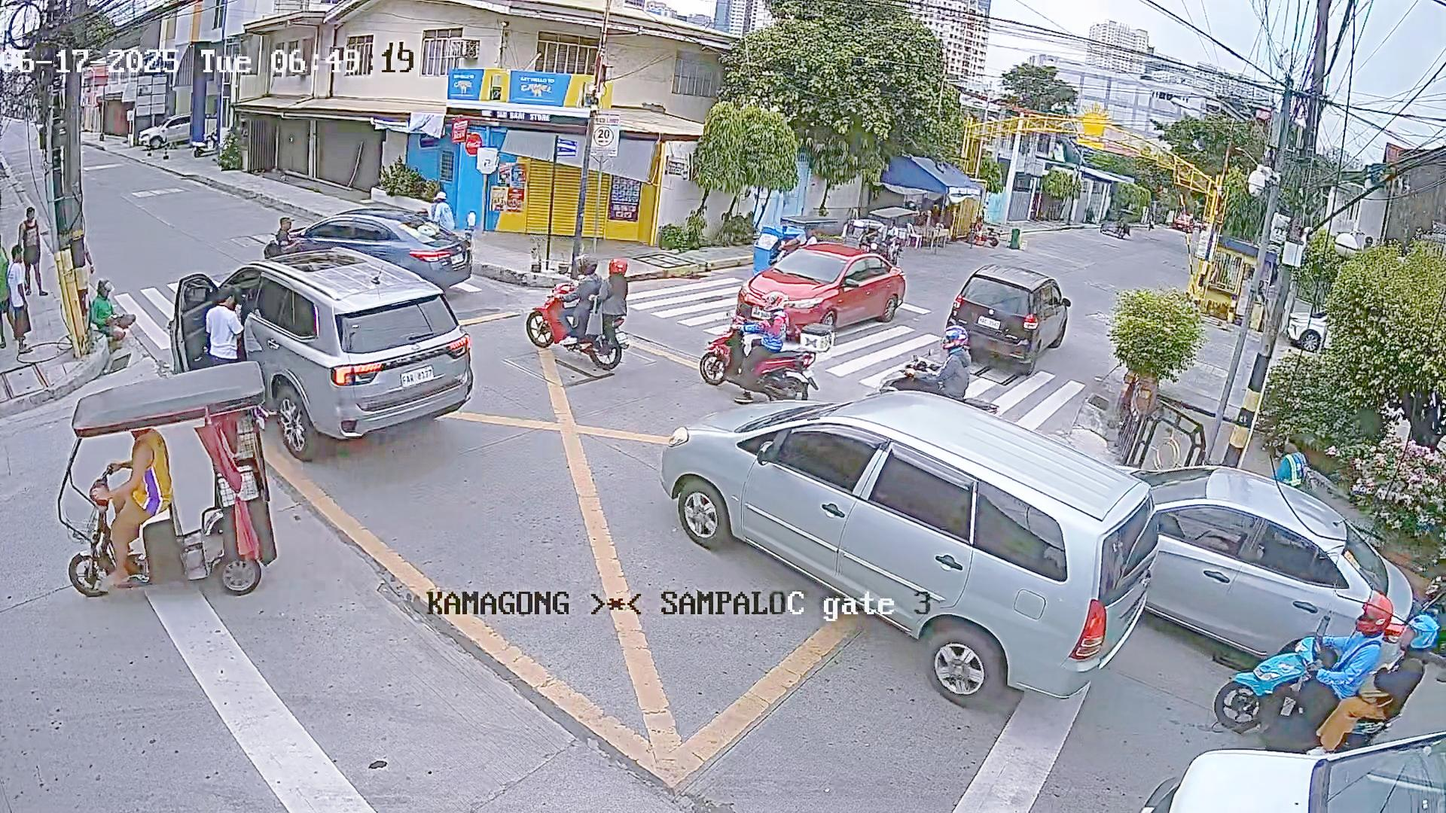Car: (613, 397, 1139, 697), (131, 223, 509, 456), (1099, 439, 1429, 673), (1121, 706, 1446, 813), (939, 247, 1098, 374), (263, 198, 485, 286), (707, 239, 925, 321)
Motor: (1178, 566, 1441, 757), (668, 282, 850, 399), (511, 253, 645, 384), (866, 326, 1009, 407)
